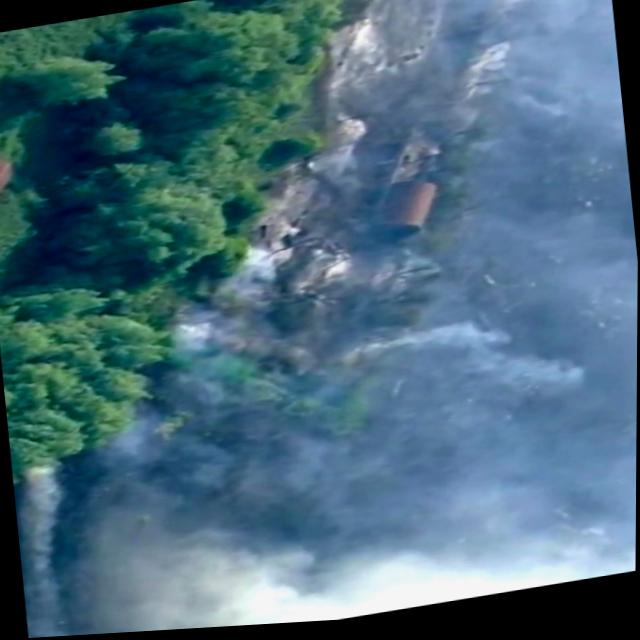smoke: (148, 501, 637, 633), (19, 549, 69, 639)
